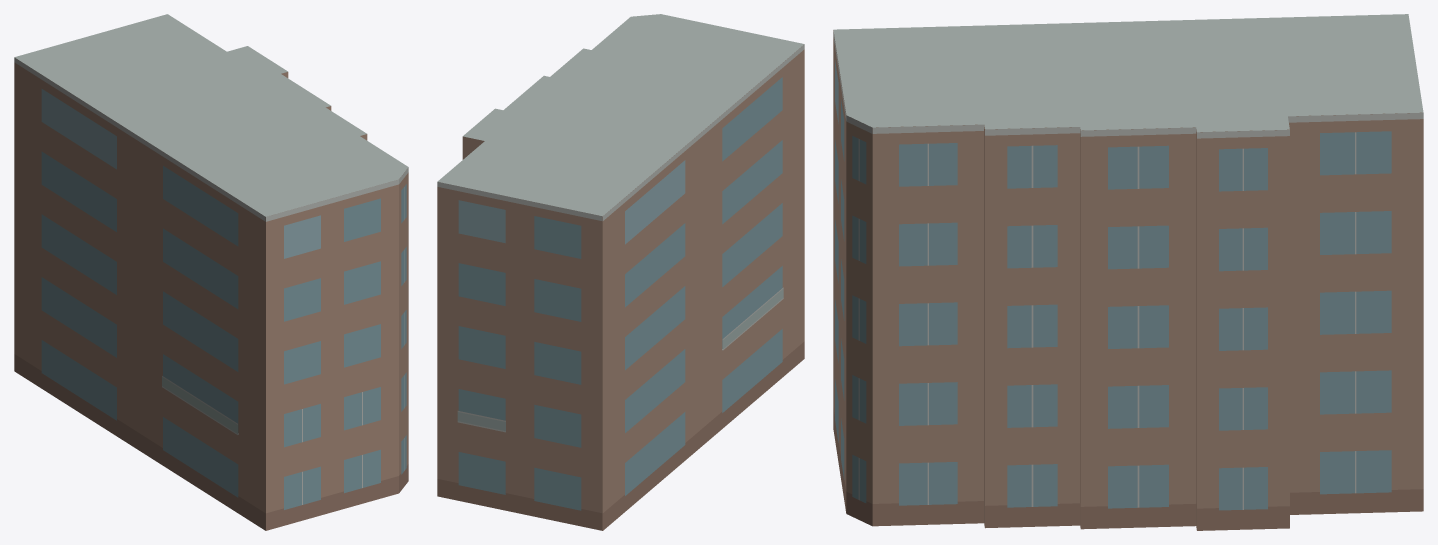
The model's file is survey-upis-32948233.glb.
3 views of the same model, side by side, from view 1: azimuth 30°, elevation 25°; view 2: azimuth 150°, elevation 25°; view 3: azimuth 270°, elevation 25° (orthographic). The views are drawn at different scales.
Parts seen in each view (by area): view 1: survey-upis-32948233.tmp; view 2: survey-upis-32948233.tmp; view 3: survey-upis-32948233.tmp.
Part boxes in pixels (left/top/right/bottom): survey-upis-32948233.tmp: left=14, top=14, right=408, bottom=530; survey-upis-32948233.tmp: left=437, top=14, right=804, bottom=530; survey-upis-32948233.tmp: left=833, top=14, right=1423, bottom=530.
Bounding box in the file's own units: 9.71 × 15.25 × 20.47.
